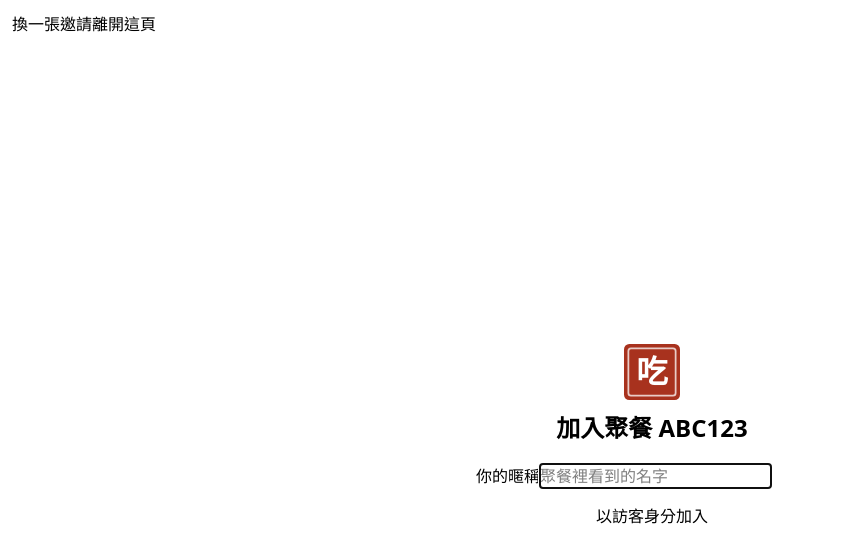
Test: 加入房間 › 沒登入：先問暱稱，以訪客身分登入後才解析邀請
Type "  小明  " into the field labelled "你的暱稱".
click(656, 476); type("  小明  ")  # box x1=540 y1=464 x2=771 y2=488
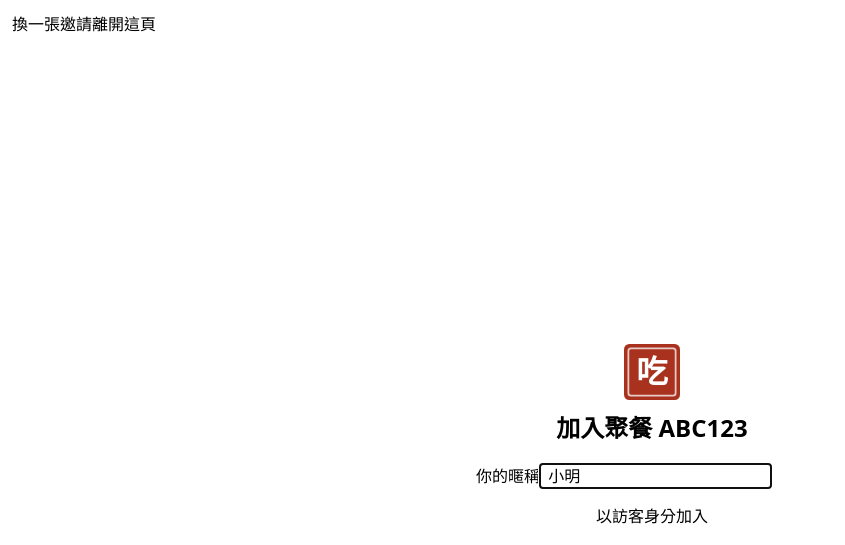
Submit the form, box x1=476 y1=464 x2=828 y2=528
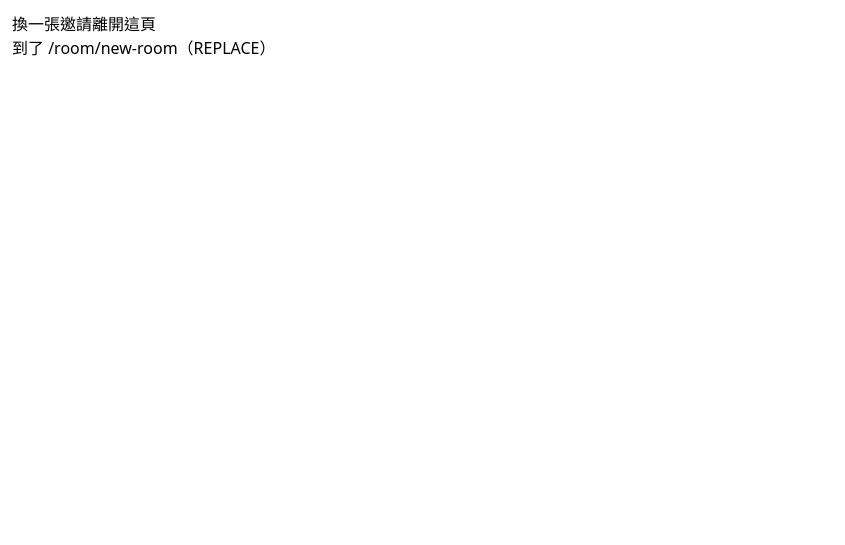
expect the text "到了 /room/new-room（REPLACE）" is shown: met, box x1=12 y1=37 x2=275 y2=59
